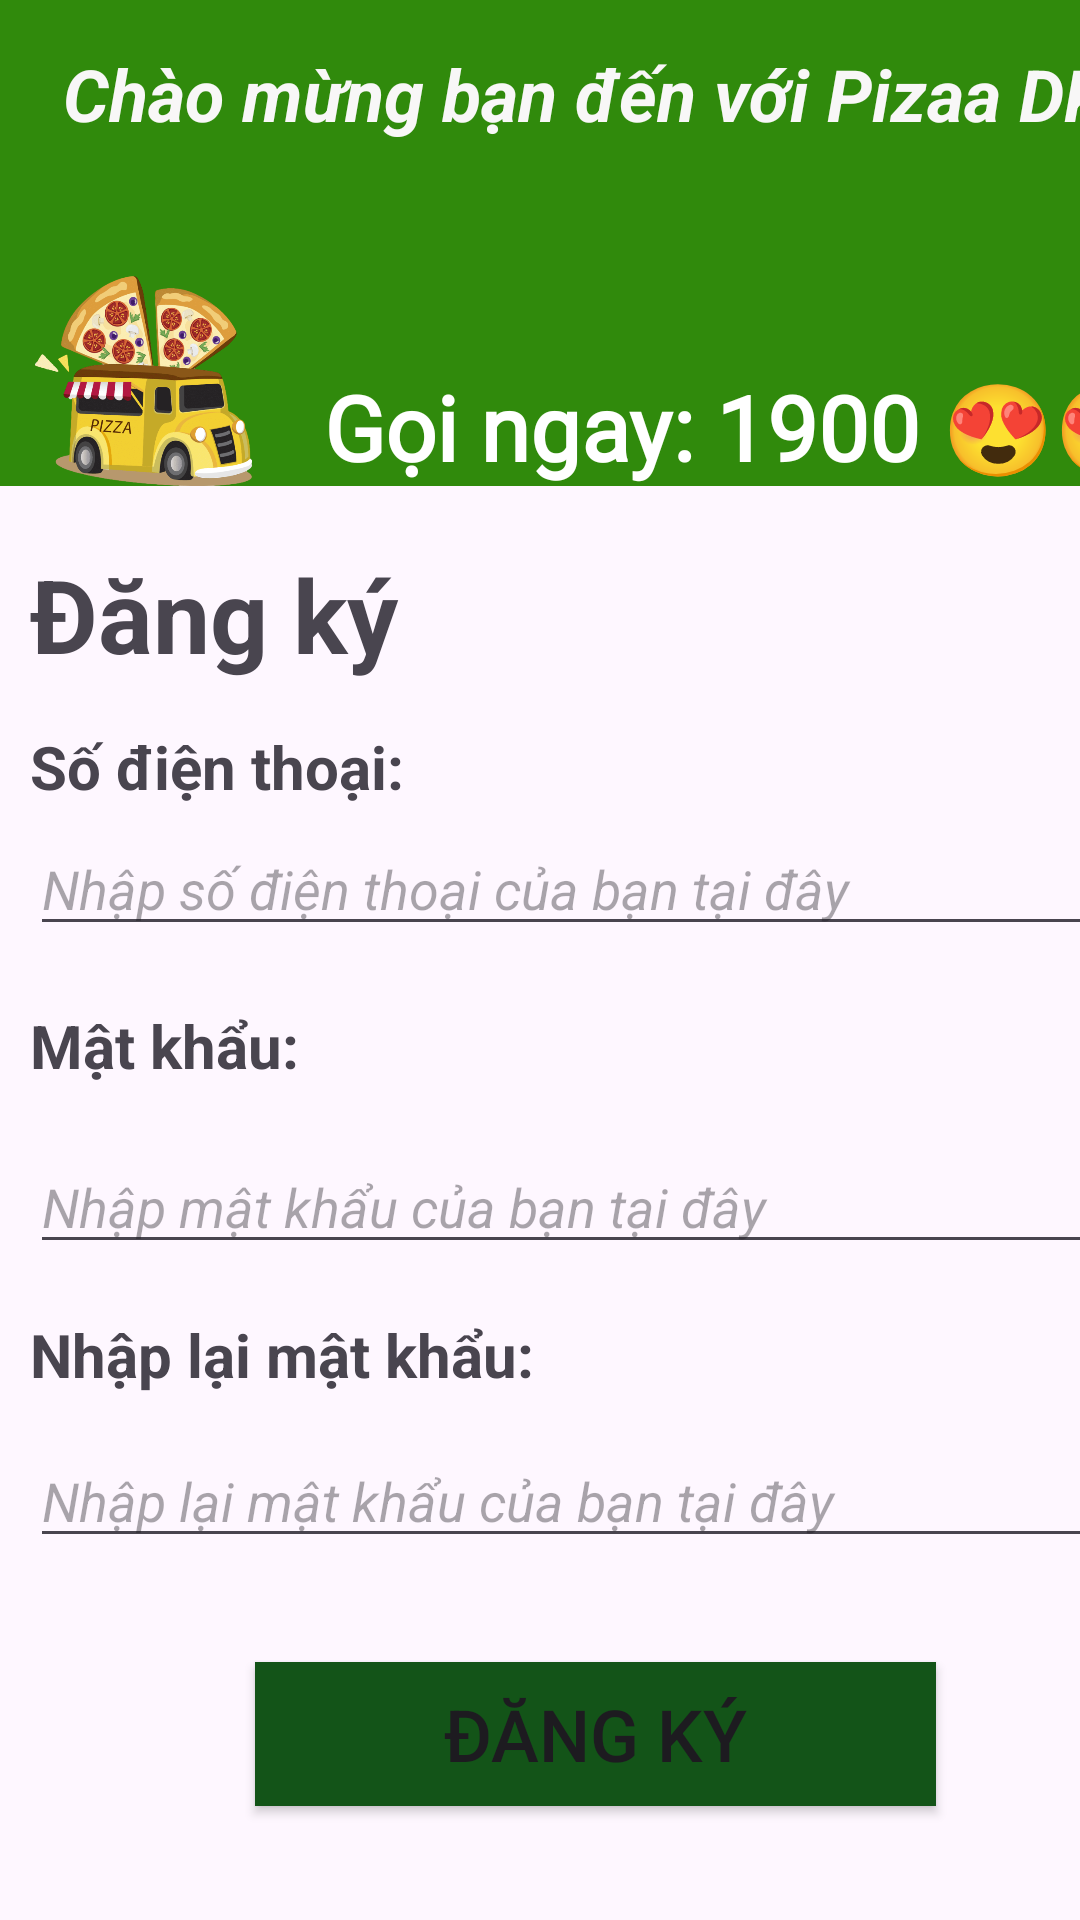

Icons on this 1080 × 1920 Android screen, each with its box as (x1, y1, x2, y2):
car: (35, 276, 252, 486)
